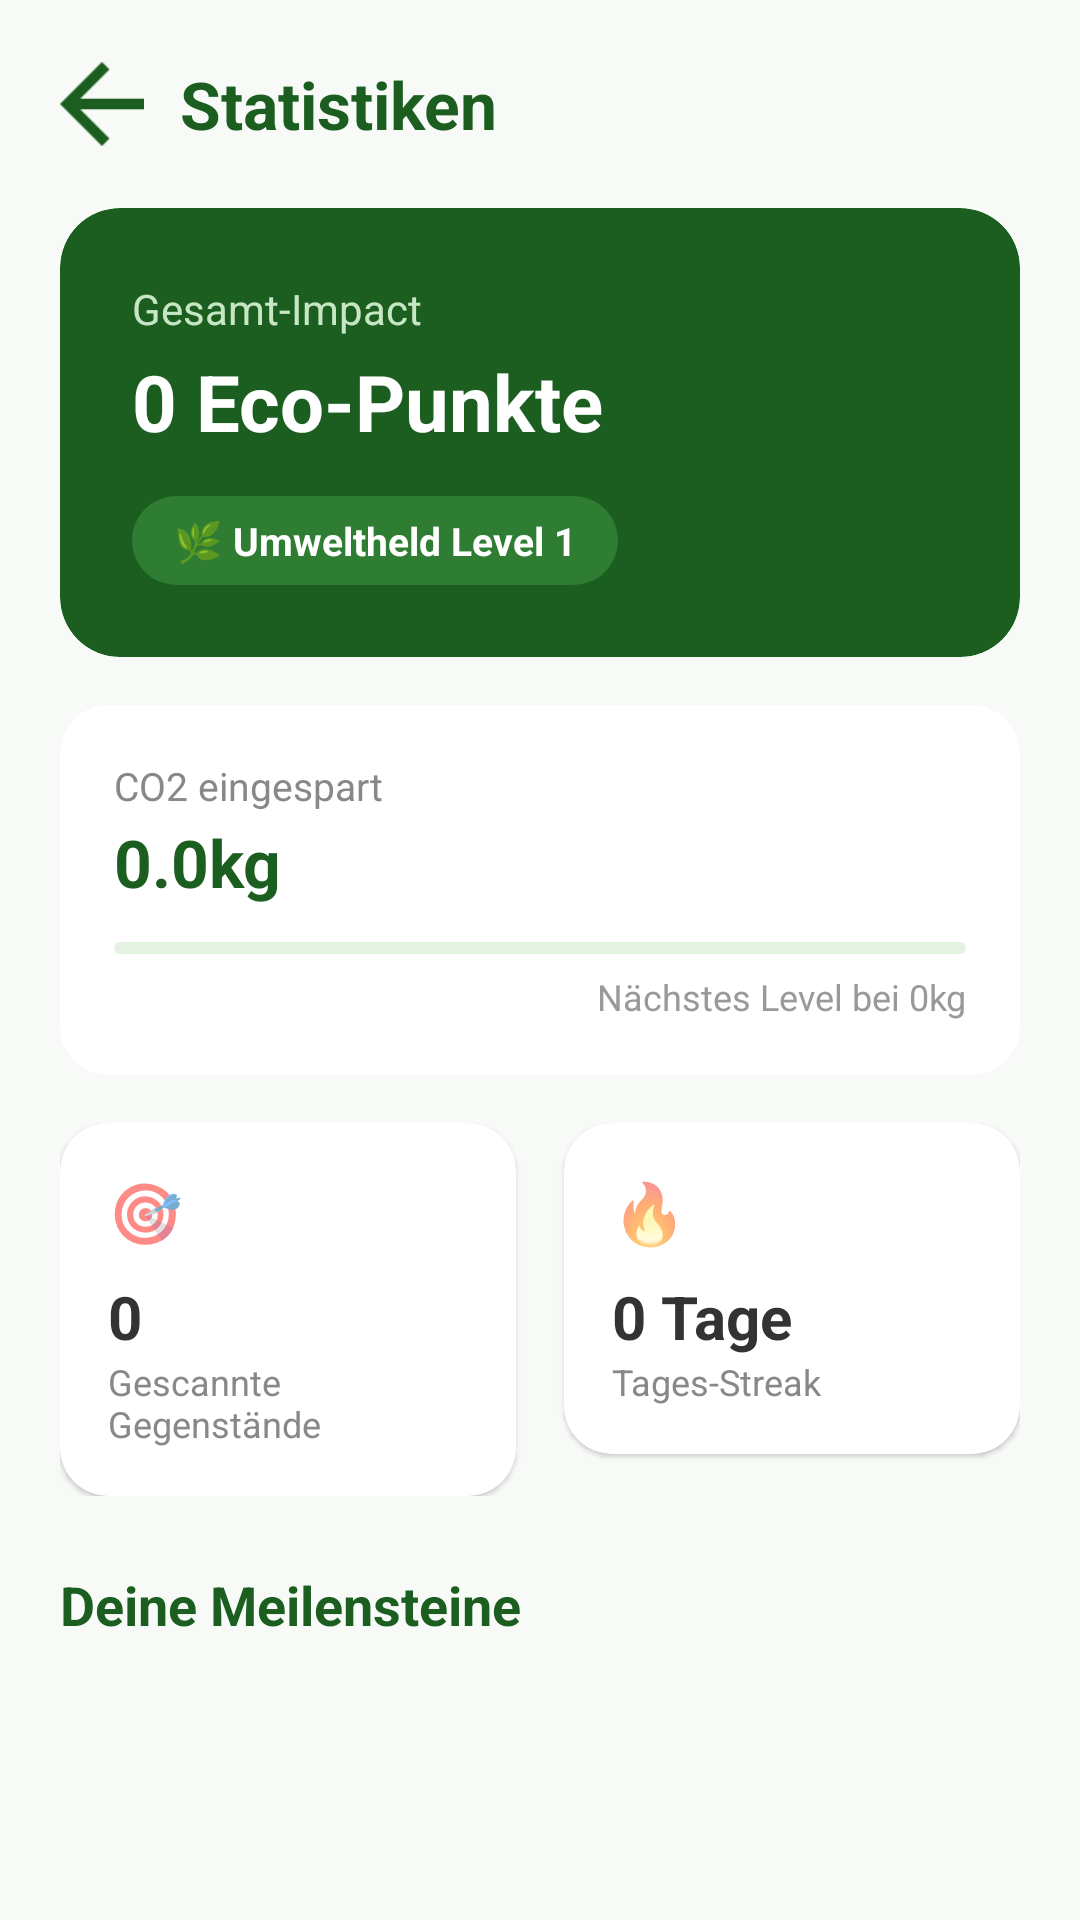

Icons on this 1080w x 1920h Android screen, each with the point to tap as [x,y]:
Zurück: [102,104]
